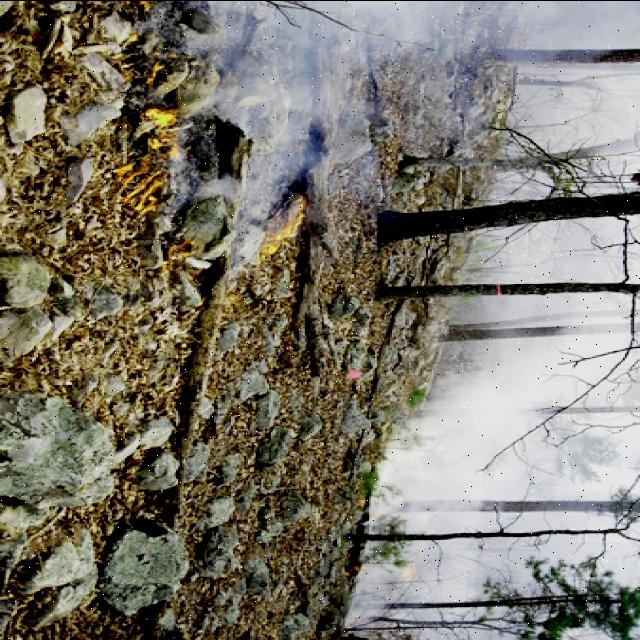api: (129, 57, 171, 219), (269, 188, 305, 262)
asap: (355, 341, 640, 615), (217, 3, 640, 178)
